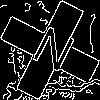N: (25, 25, 78, 82)
